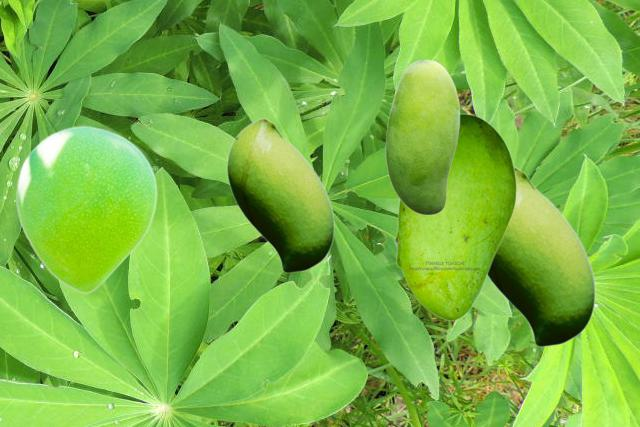green_mango: (394, 113, 516, 320), (16, 125, 156, 293), (488, 165, 594, 346), (226, 117, 333, 272), (385, 59, 459, 214)
